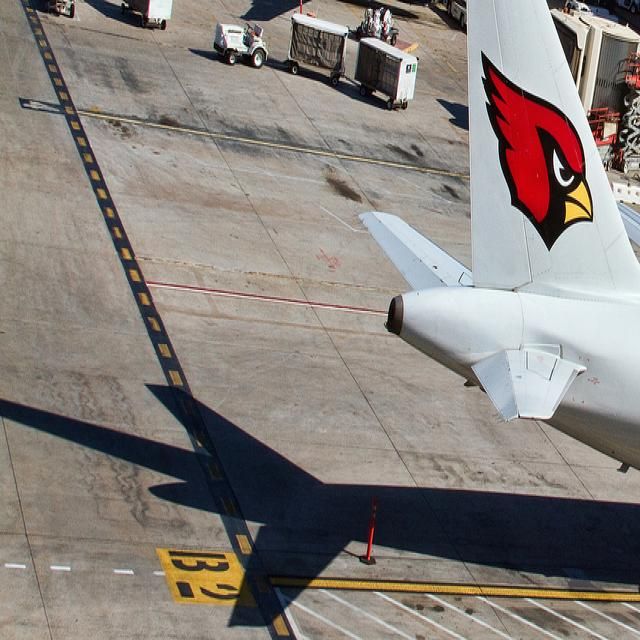Vehicle: (120, 0, 173, 29)
